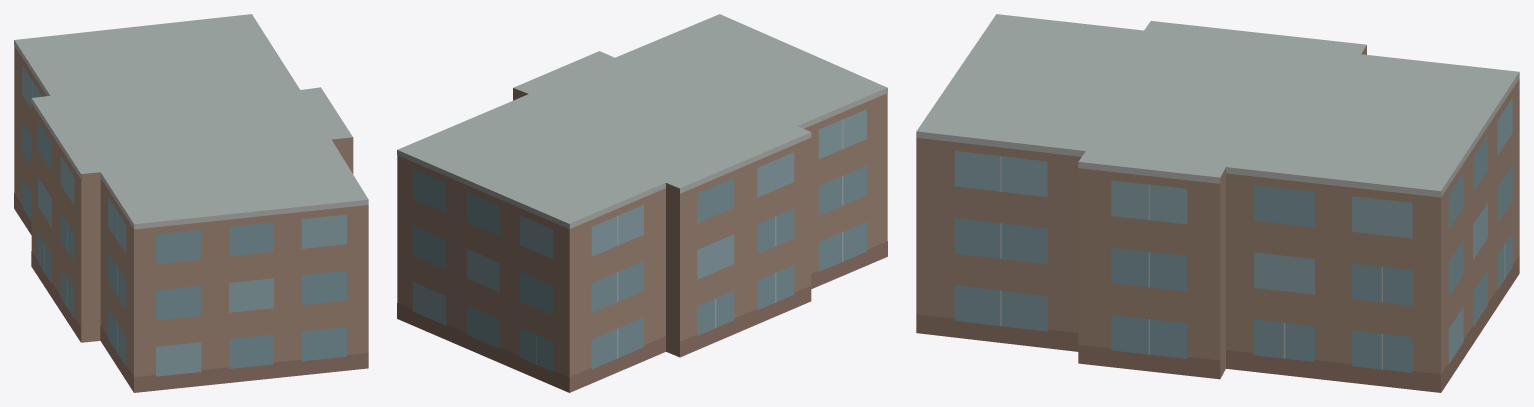
The model's file is survey-upis-32491626.glb.
3 renders of one model, left to right at view 1: azimuth 30°, elevation 25°; view 2: azimuth 150°, elevation 25°; view 3: azimuth 270°, elevation 25°, orthographic. The views are drawn at different scales.
Parts seen in each view (by area): view 1: survey-upis-32491626.tmp; view 2: survey-upis-32491626.tmp; view 3: survey-upis-32491626.tmp.
Part boxes in pixels (bbox=[...]): survey-upis-32491626.tmp: bbox=[14, 14, 368, 392]; survey-upis-32491626.tmp: bbox=[397, 14, 887, 392]; survey-upis-32491626.tmp: bbox=[916, 14, 1519, 392].
Size of the model in its own units: 14.73 by 7.81 by 21.19.
